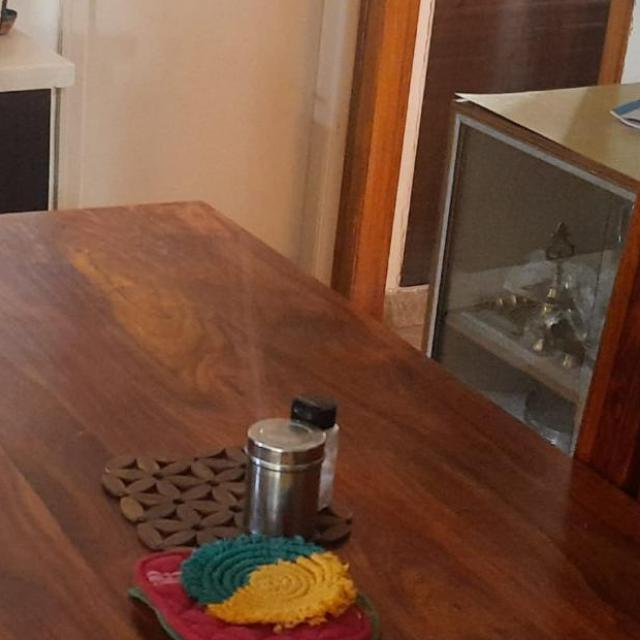fire: (220, 142, 277, 424)
